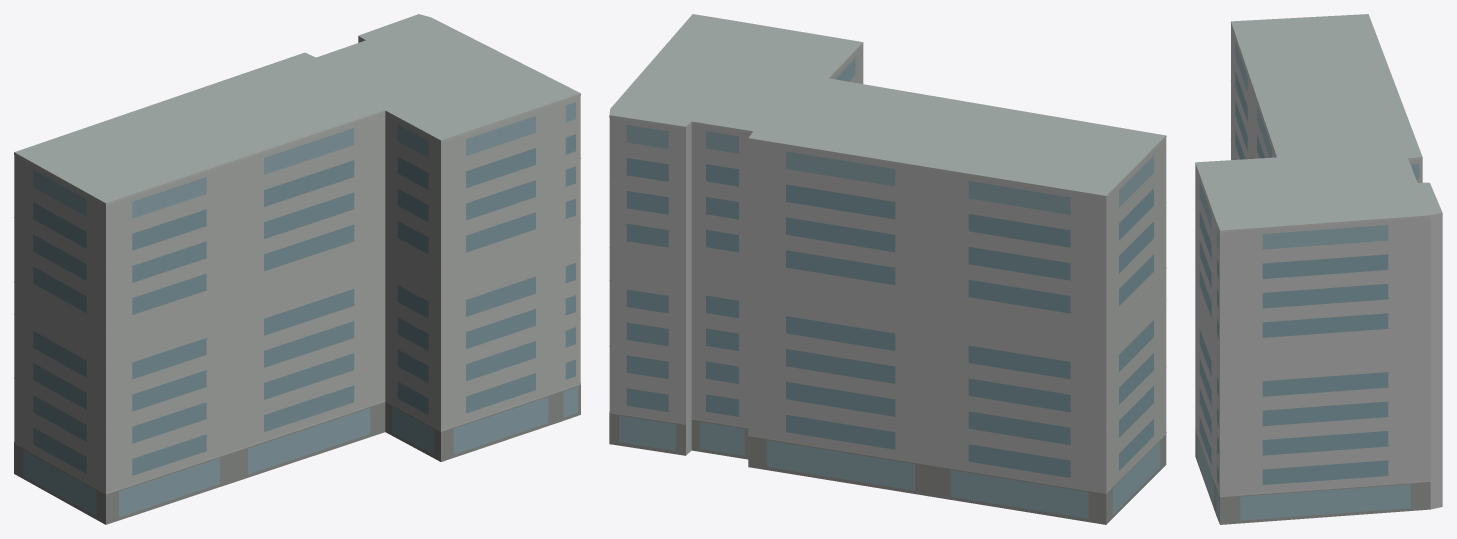
The model's file is survey-upis-32909310.glb.
The picture shows the model from 3 angles, left to right: view 1: azimuth 30°, elevation 25°; view 2: azimuth 150°, elevation 25°; view 3: azimuth 270°, elevation 25°; orthographic projection. The views are drawn at different scales.
Visible parts, largest first — view 1: survey-upis-32909310.tmp; view 2: survey-upis-32909310.tmp; view 3: survey-upis-32909310.tmp.
Boxes of the visible parts, bbox=[...] form: survey-upis-32909310.tmp: bbox=[14, 14, 580, 524]; survey-upis-32909310.tmp: bbox=[609, 14, 1166, 524]; survey-upis-32909310.tmp: bbox=[1195, 14, 1442, 524].
Bounding box in the file's own units: 44.57 × 28.2 × 21.51.
